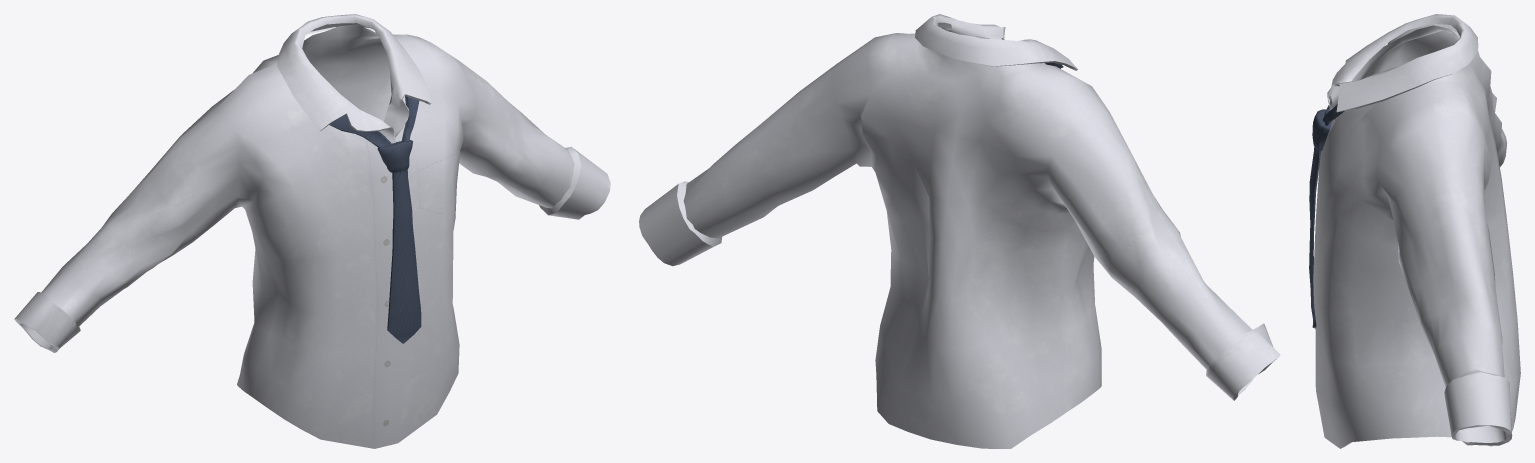
The model's file is low_poly_woman_oversize_shirt_with_tie.glb.
3 views of the same model, side by side, from view 1: azimuth 30°, elevation 25°; view 2: azimuth 150°, elevation 25°; view 3: azimuth 270°, elevation 25° (orthographic). The views are drawn at different scales.
Visible parts, largest first — view 1: Shirt_lo, Tie_lo; view 2: Shirt_lo; view 3: Shirt_lo, Tie_lo.
Boxes of the visible parts, bbox=[...] form: Shirt_lo: bbox=[14, 14, 610, 448]; Tie_lo: bbox=[329, 96, 421, 343]; Shirt_lo: bbox=[639, 14, 1280, 448]; Shirt_lo: bbox=[1313, 14, 1520, 448]; Tie_lo: bbox=[1309, 104, 1344, 328].
Size of the model in its own units: 0.9074 by 0.5572 by 0.2654.
1 material, 1 textured.
